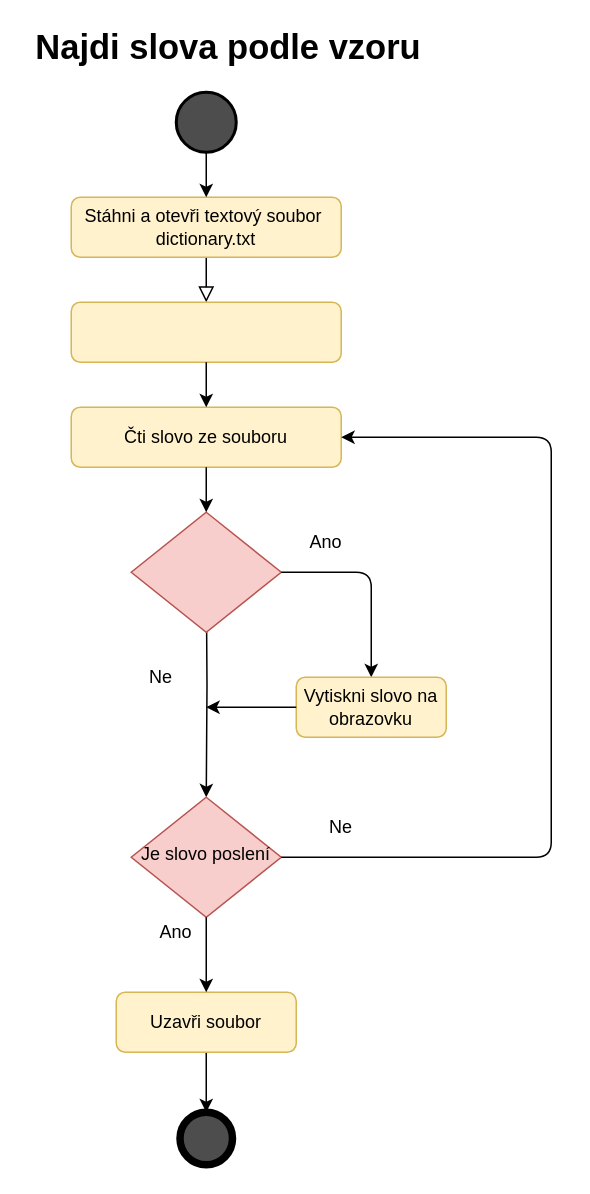
This 590x1194 diagram has some shape labels left out. The shapes that lost their labels are listed below. From the top down, each one's centre as x and y in pixels, then its label:
the point at 205,331: Zadej vzor pro slova
the point at 205,571: Shoduje se slovo se vzorem?
